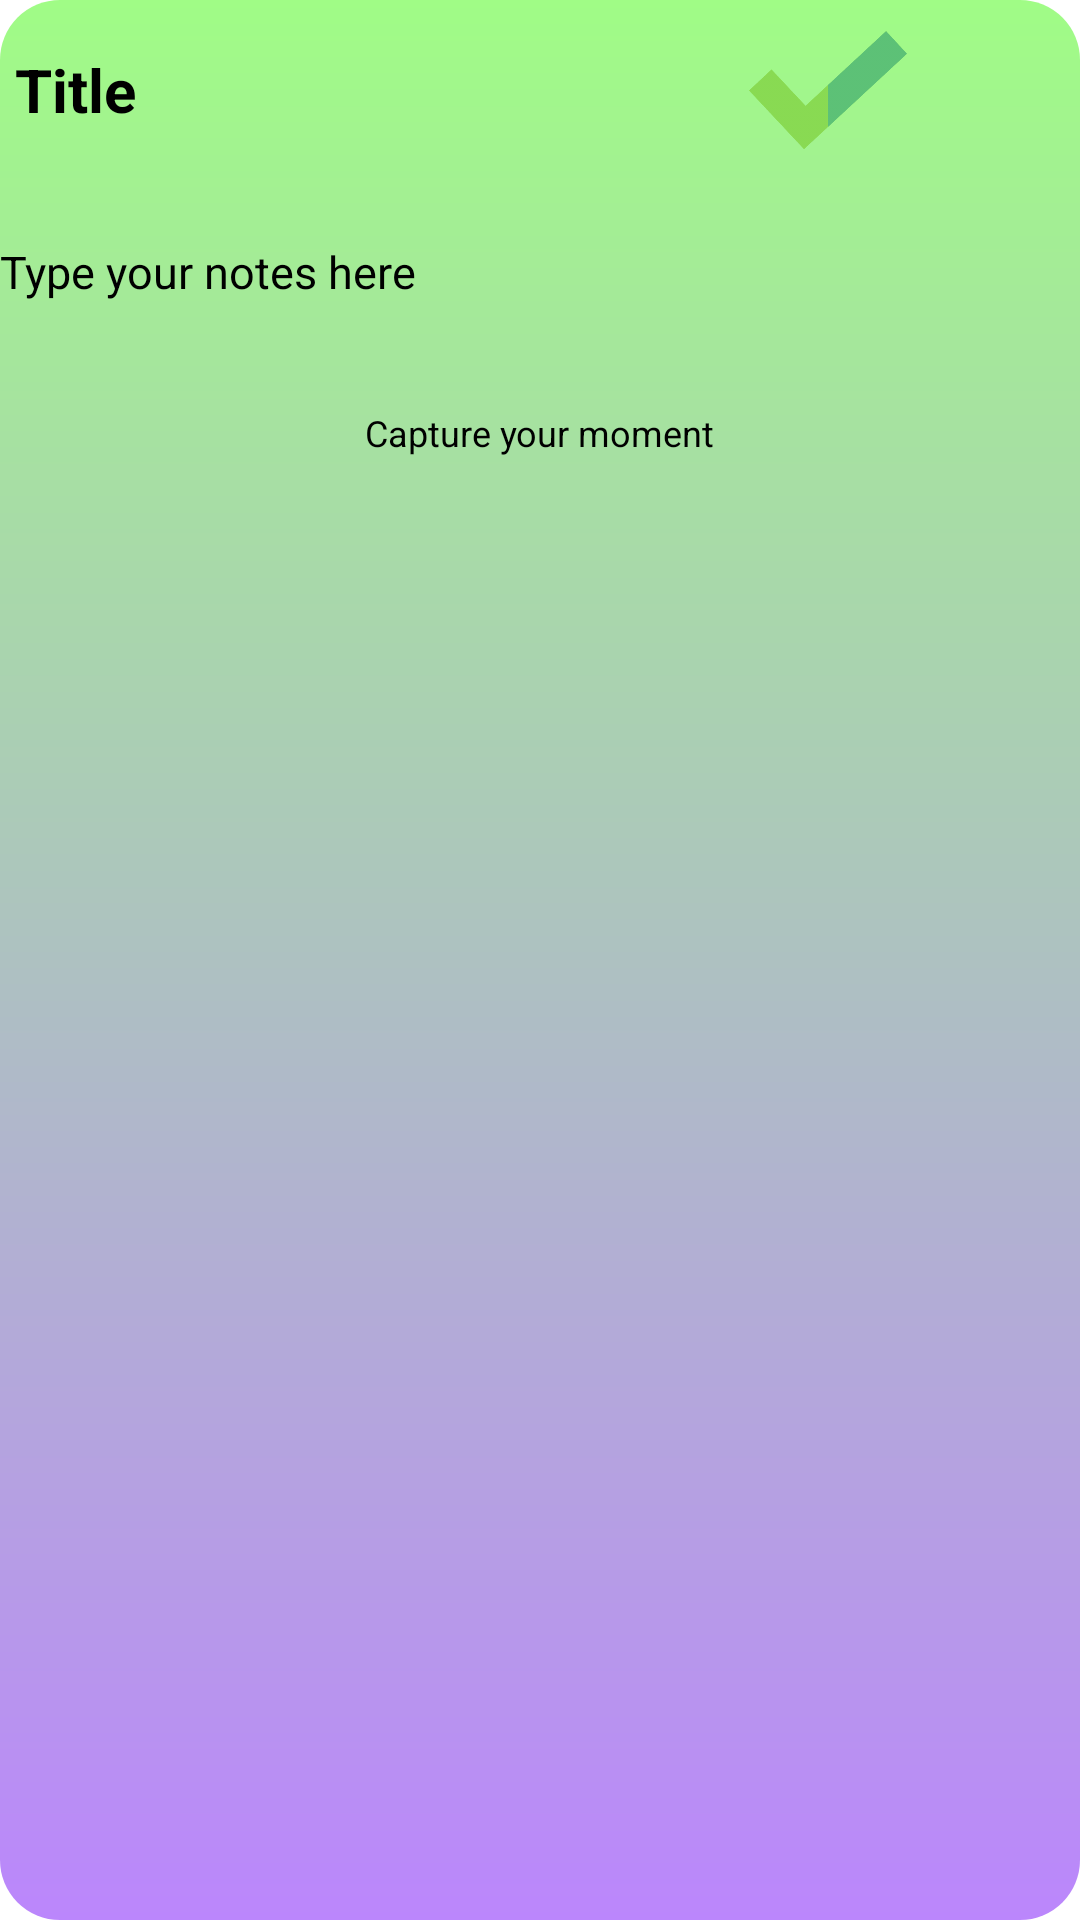

Screen size 1080px×1920px. Icon name, then its box in pixels as (x1, y1, x2, y2):
save: (749, 31, 907, 149)
